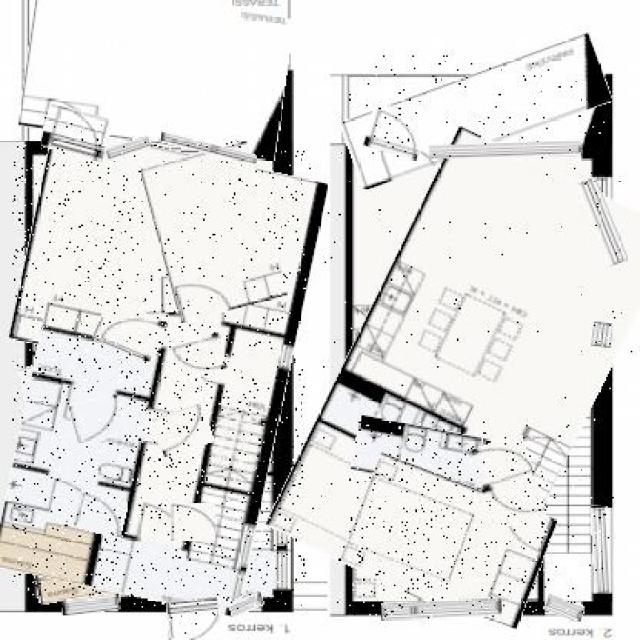door: (474, 437, 541, 526), (96, 303, 164, 359), (43, 110, 111, 158), (365, 108, 426, 157), (155, 408, 211, 454), (70, 397, 124, 441), (172, 336, 228, 378), (166, 598, 219, 640), (76, 494, 126, 537), (160, 274, 209, 312), (171, 503, 215, 540)
window: (585, 177, 620, 266), (382, 598, 504, 618), (429, 142, 580, 158), (158, 138, 258, 160), (592, 504, 611, 594), (62, 595, 120, 614), (106, 138, 151, 157), (545, 596, 583, 618), (228, 592, 264, 614), (592, 323, 612, 348)
zone: (308, 142, 632, 616), (12, 143, 306, 608), (23, 0, 291, 151), (20, 142, 171, 360), (343, 54, 611, 169), (346, 468, 551, 615), (26, 351, 160, 540), (150, 146, 278, 319), (354, 422, 489, 489), (31, 530, 132, 602)
